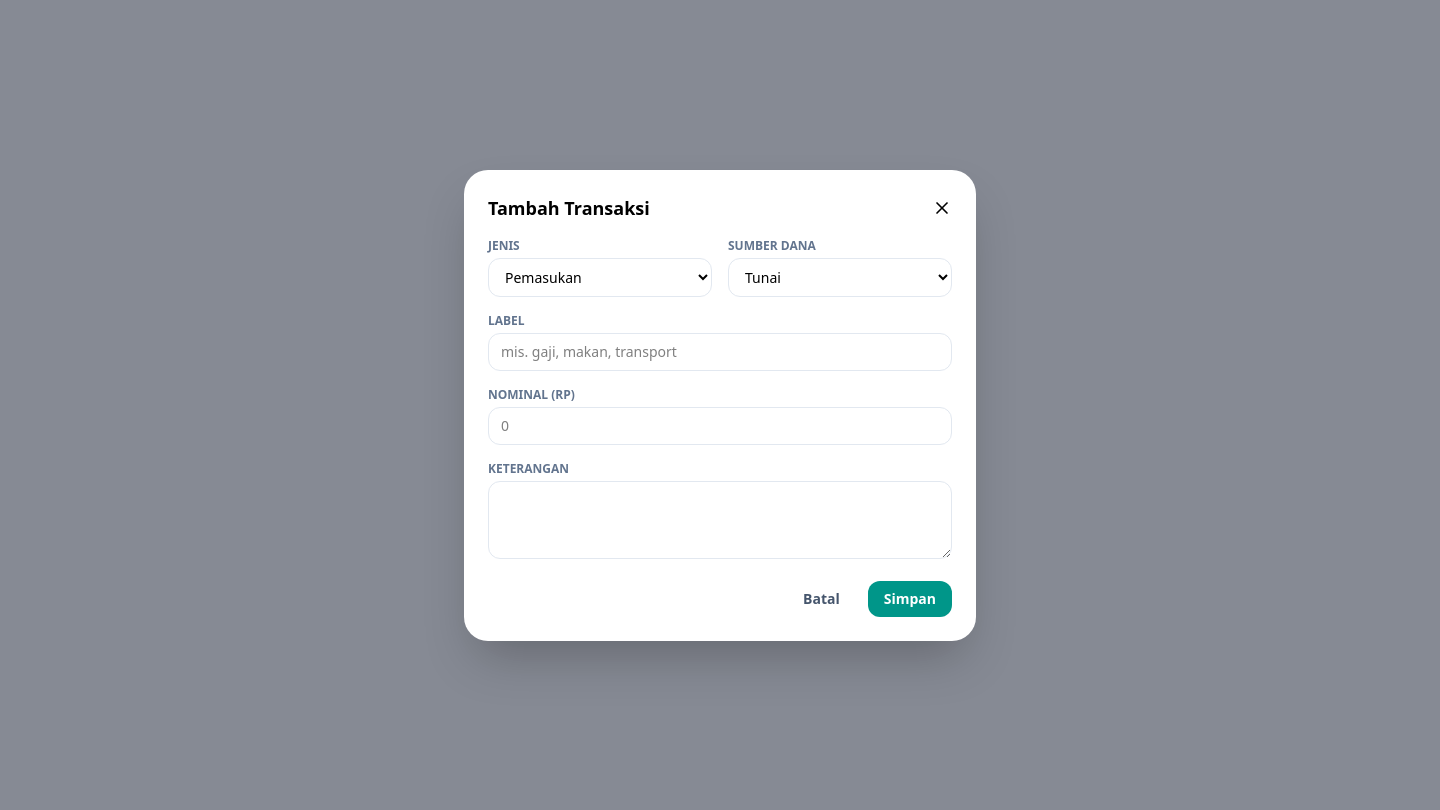
Test: AddModal › should require a nominal greater than zero
The width and height of the screenshot is (1440, 810).
Type "gaji" into the field with id "add-label" at coordinates (720, 352), box [488, 332, 952, 370]
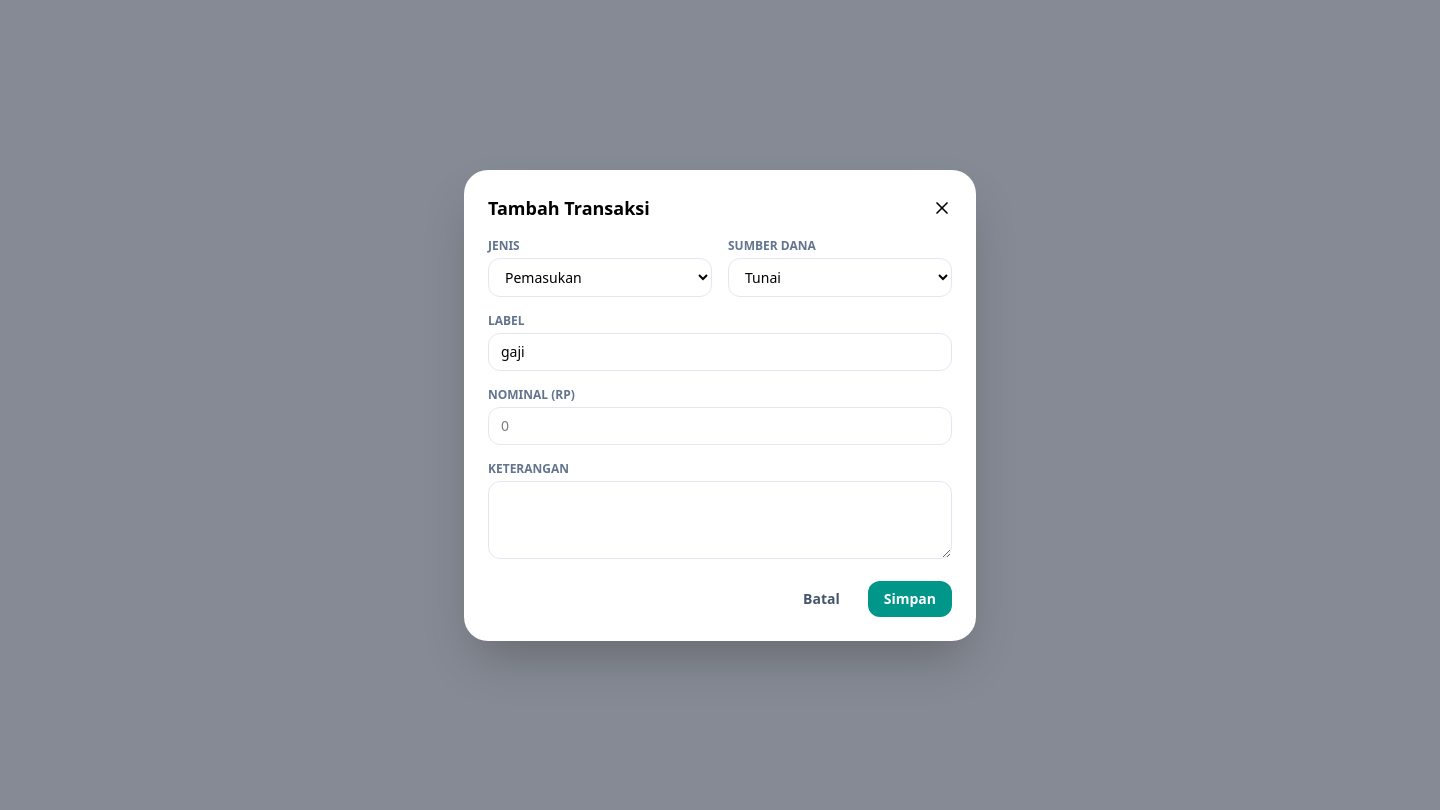
Submit the form, box [464, 170, 976, 640]
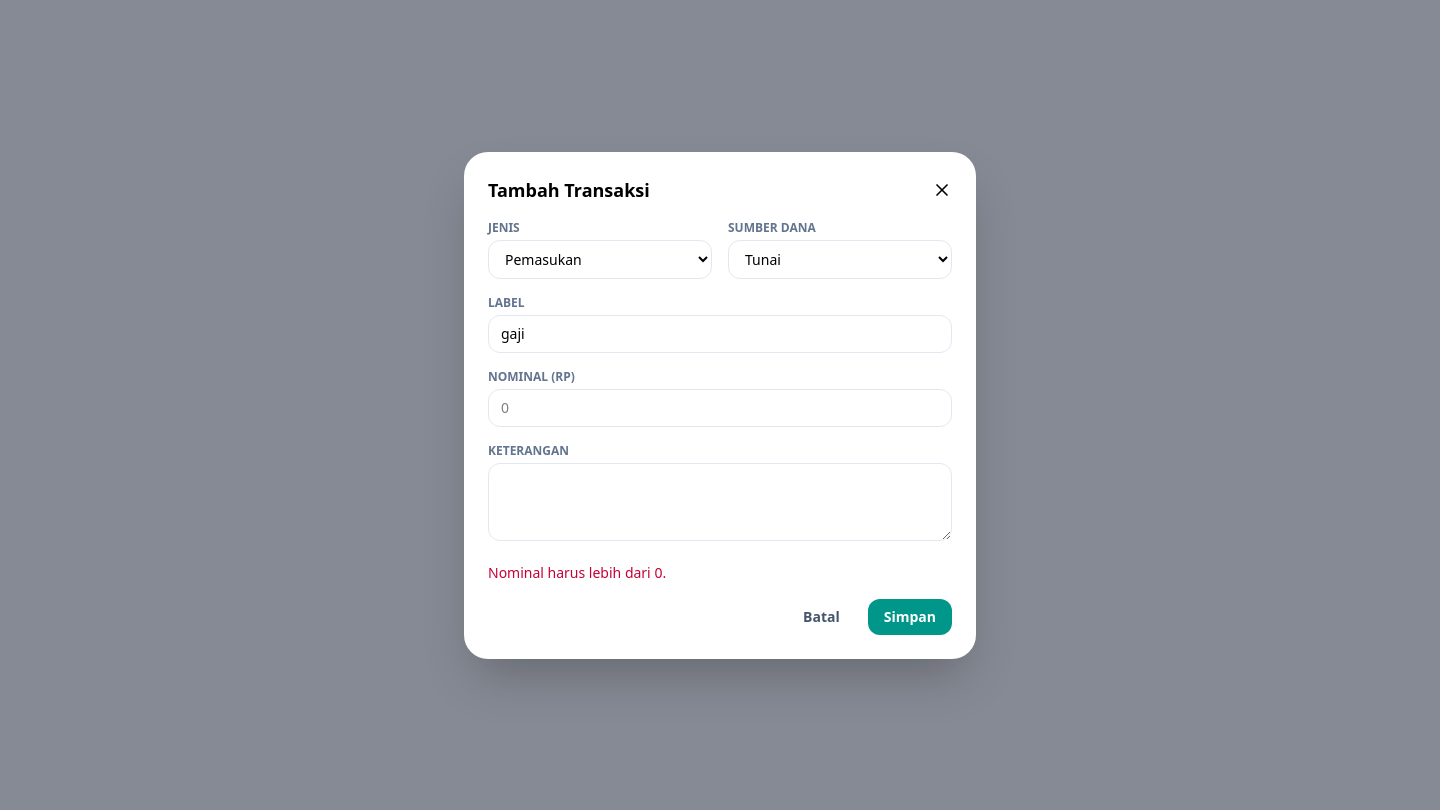
Now the text with test id "add-error" shows "Nominal harus lebih dari 0", box [488, 562, 666, 582]
